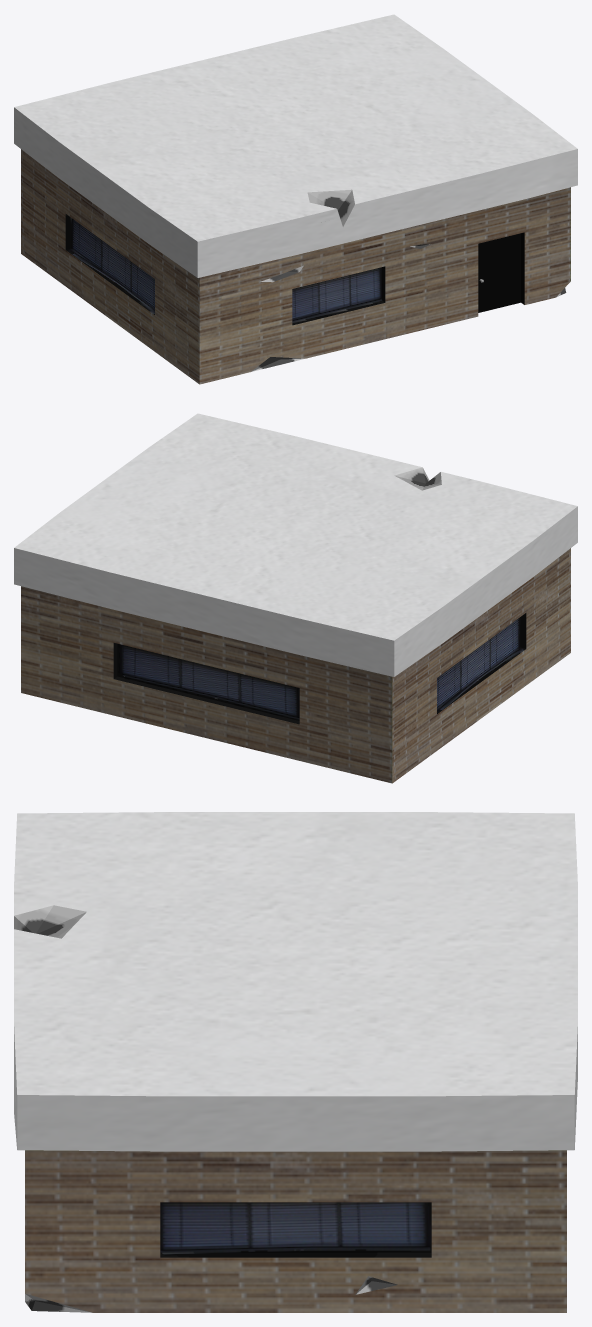
File: City_Structure.FBX
3 renders of one model, top to bottom at view 1: azimuth 30°, elevation 25°; view 2: azimuth 150°, elevation 25°; view 3: azimuth 270°, elevation 25°, orthographic. The views are drawn at different scales.
Visible parts, largest first — view 1: Box001; view 2: Box001; view 3: Box001.
Boxes of the visible parts, x1,y1,x2,y2 form: Box001: (14, 14, 577, 384); Box001: (14, 413, 577, 783); Box001: (14, 812, 577, 1312).
Bounding box in the file's own units: 1240 × 450 × 1040.
Materials: 1 (1 with a texture image).
